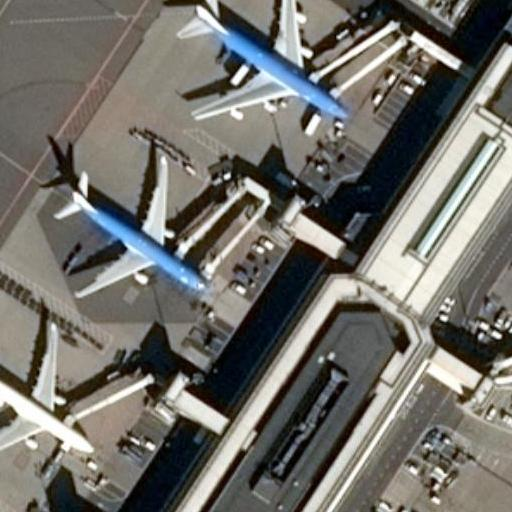Aircraft: (41, 141, 221, 307), (166, 0, 353, 130), (0, 315, 100, 464), (0, 490, 20, 512)
